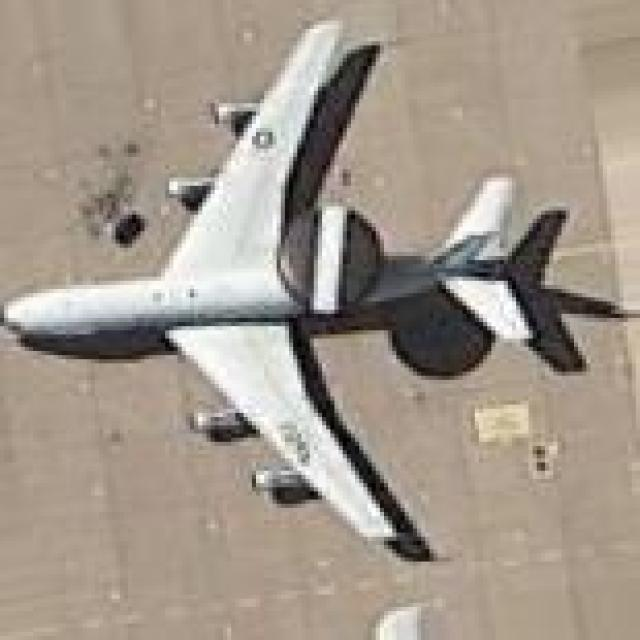E-3_TopDown: (0, 12, 636, 562)
